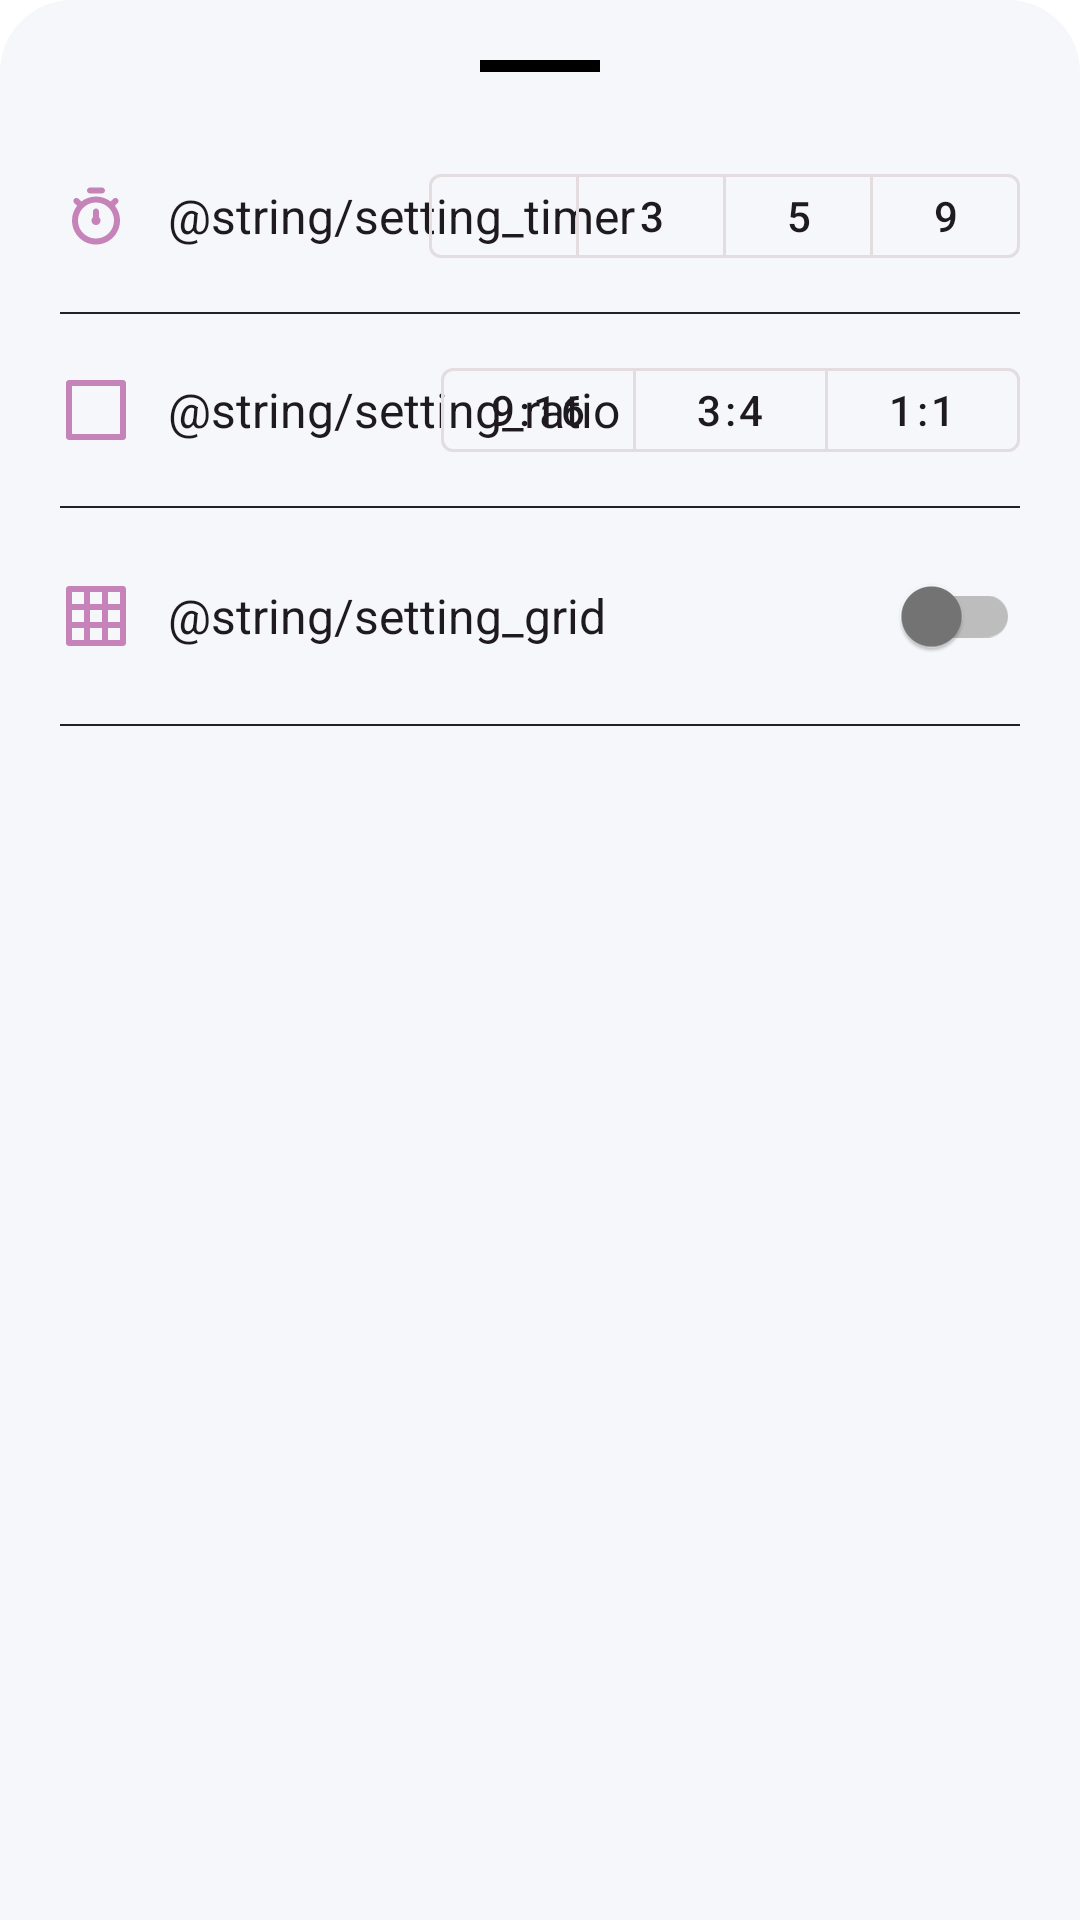

Icons on this 1080*1920 Android screen, each with the point to tap as [x,y]:
aspect ratio: [96,410]
